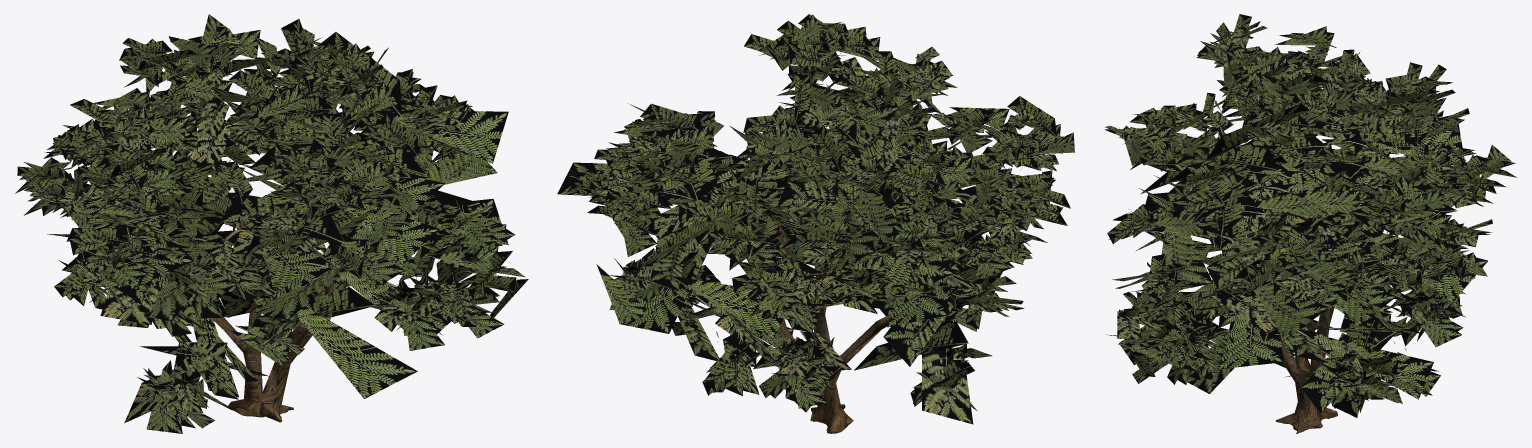
Rendered from jacaranda_tree_lod2.glb.
The picture shows the model from 3 angles, left to right: view 1: azimuth 30°, elevation 25°; view 2: azimuth 150°, elevation 25°; view 3: azimuth 270°, elevation 25°; orthographic projection. The views are drawn at different scales.
Visible parts, largest first — view 1: jacaranda_tree_LOD0; view 2: jacaranda_tree_LOD0; view 3: jacaranda_tree_LOD0.
Boxes of the visible parts, x1,y1,x2,y2 form: jacaranda_tree_LOD0: [15, 14, 528, 433]; jacaranda_tree_LOD0: [557, 14, 1074, 433]; jacaranda_tree_LOD0: [1105, 14, 1516, 433].
Bounding box in the file's own units: 26.18 × 19.73 × 20.1.
3 materials, 3 textured.
